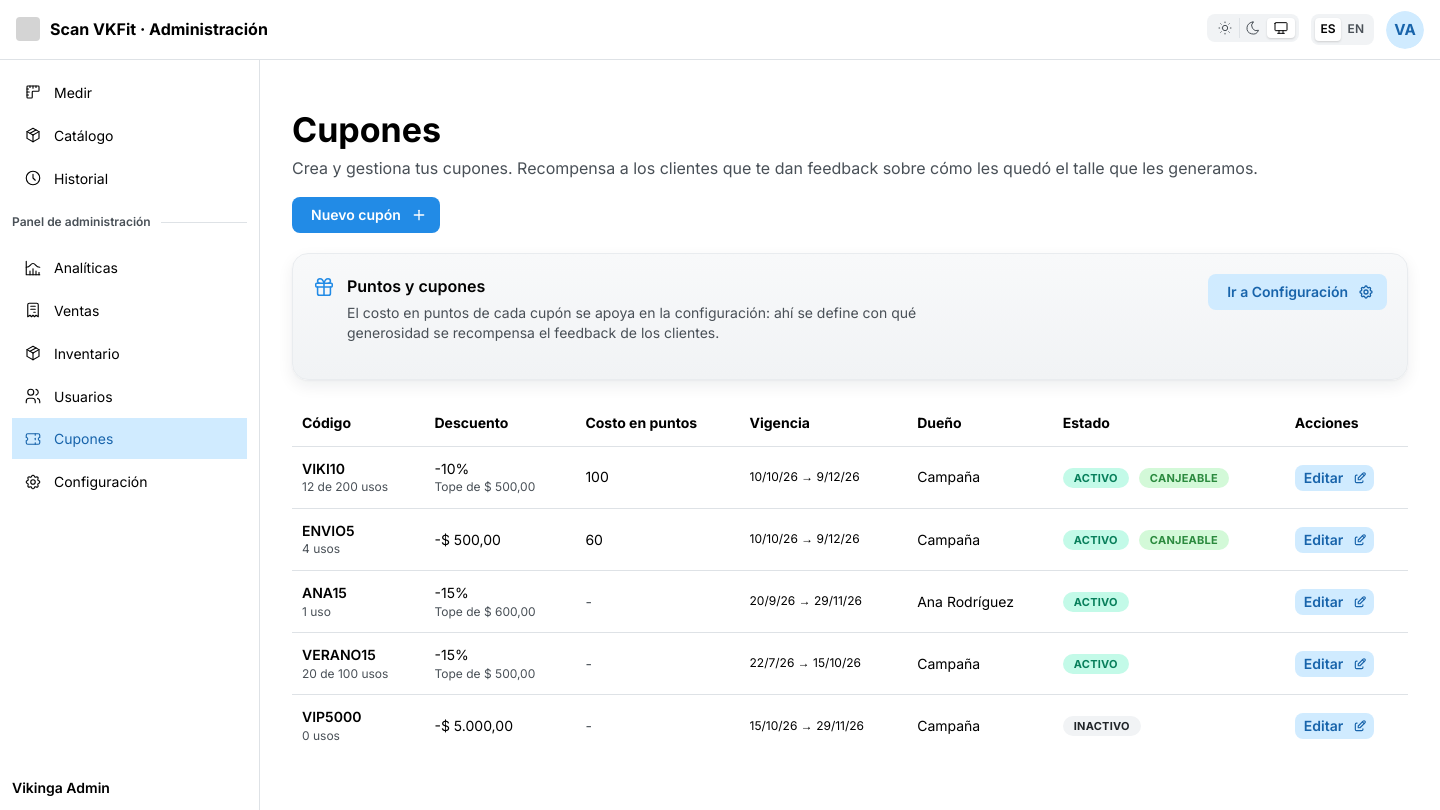
Test: cupones › el alta de un cupón se confirma con Crear
What coordinates should you click on to do the following:
click the button "Nuevo cupón"
I would click on:
 (366, 215)
Its box is [292, 197, 440, 233].
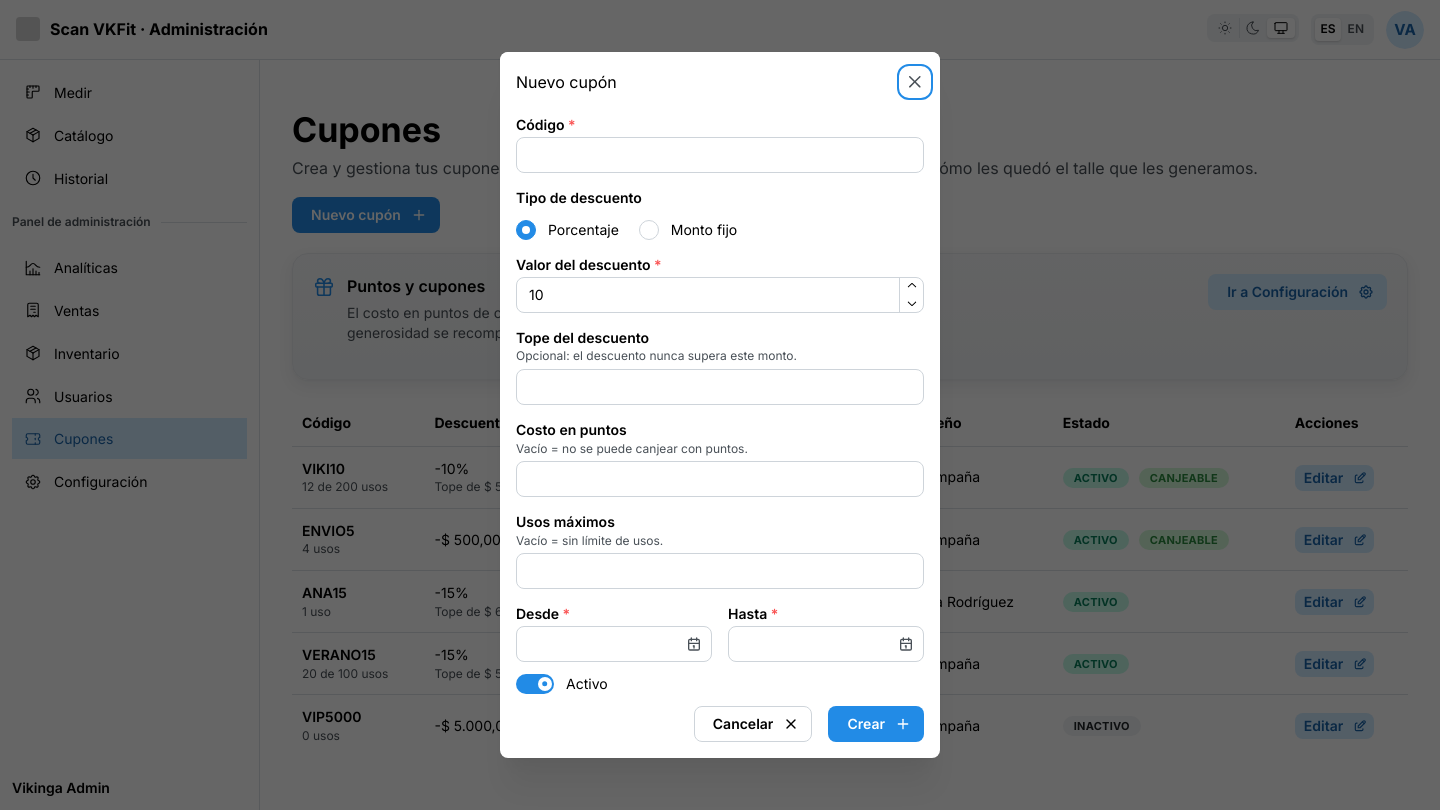
Expected: the button "Crear" is shown, [828, 706, 924, 742]
Expected: the button "Cancelar" is shown, [694, 706, 812, 742]
